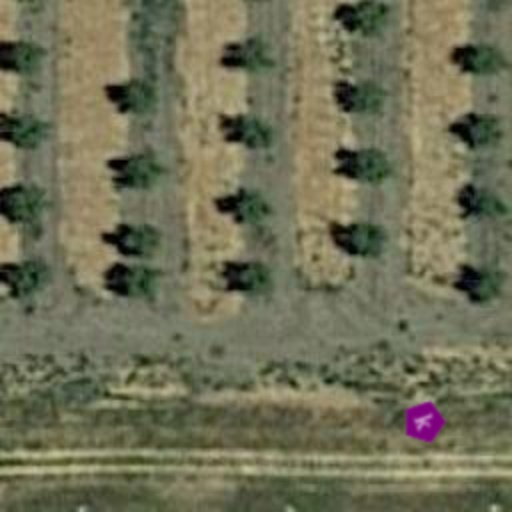pentagon: (394, 392, 454, 452)
